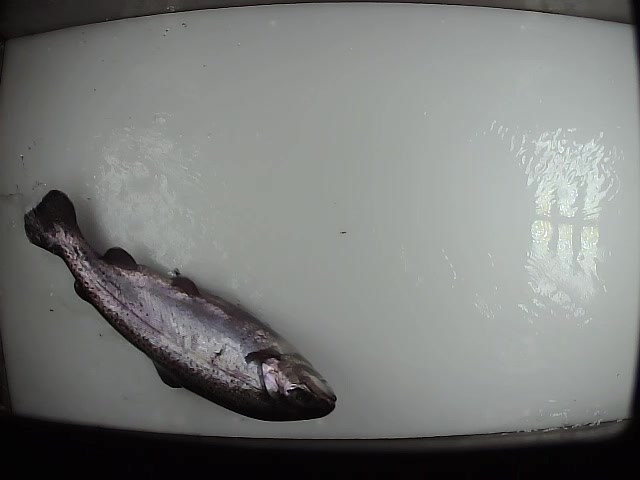Fish: (24, 189, 336, 422)
